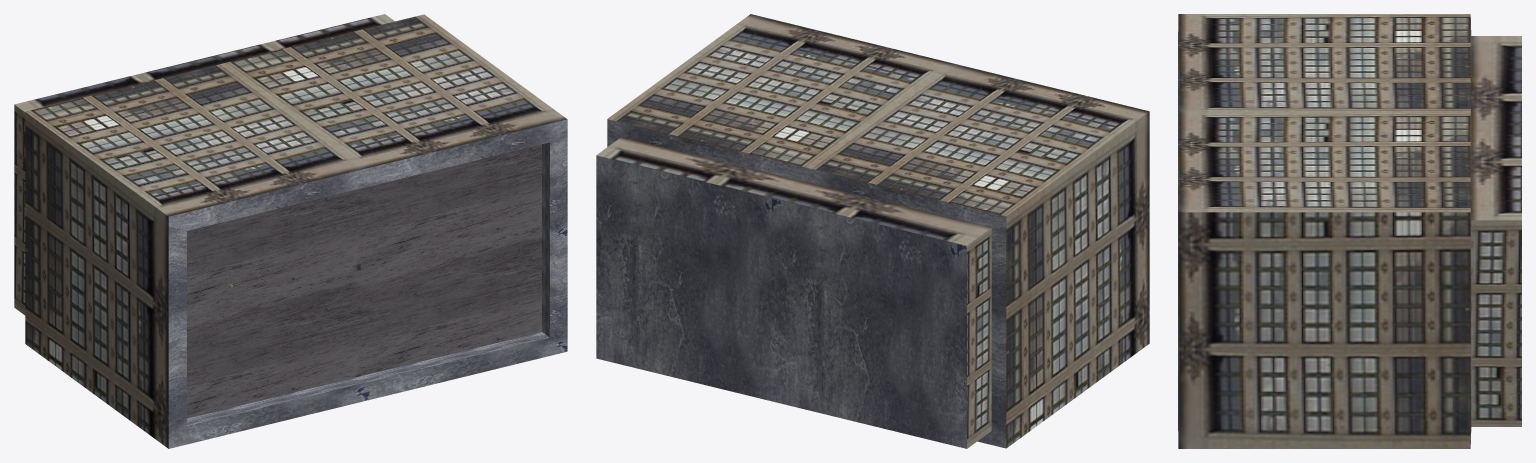
File: urbaniron02b_wtf.obj
3 renders of one model, left to right at view 1: azimuth 30°, elevation 25°; view 2: azimuth 150°, elevation 25°; view 3: azimuth 270°, elevation 25°, orthographic.
Visible parts, largest first — view 1: group5, group4, group3; view 2: group5, group3; view 3: group5, group3.
Part boxes in pixels (box(x1,y1,x2,y2)): group5: box(14, 14, 567, 448); group4: box(187, 144, 541, 418); group3: box(168, 119, 567, 448); group5: box(596, 14, 1149, 448); group3: box(596, 119, 1006, 448); group5: box(1178, 14, 1521, 448); group3: box(1178, 18, 1471, 444).
Bounding box in the file's own units: 660 × 367 × 483.
